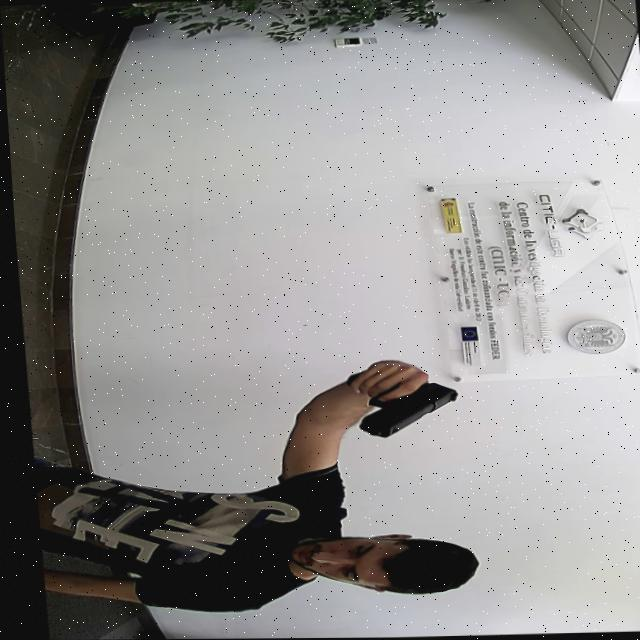pistol: (347, 380, 457, 439)
